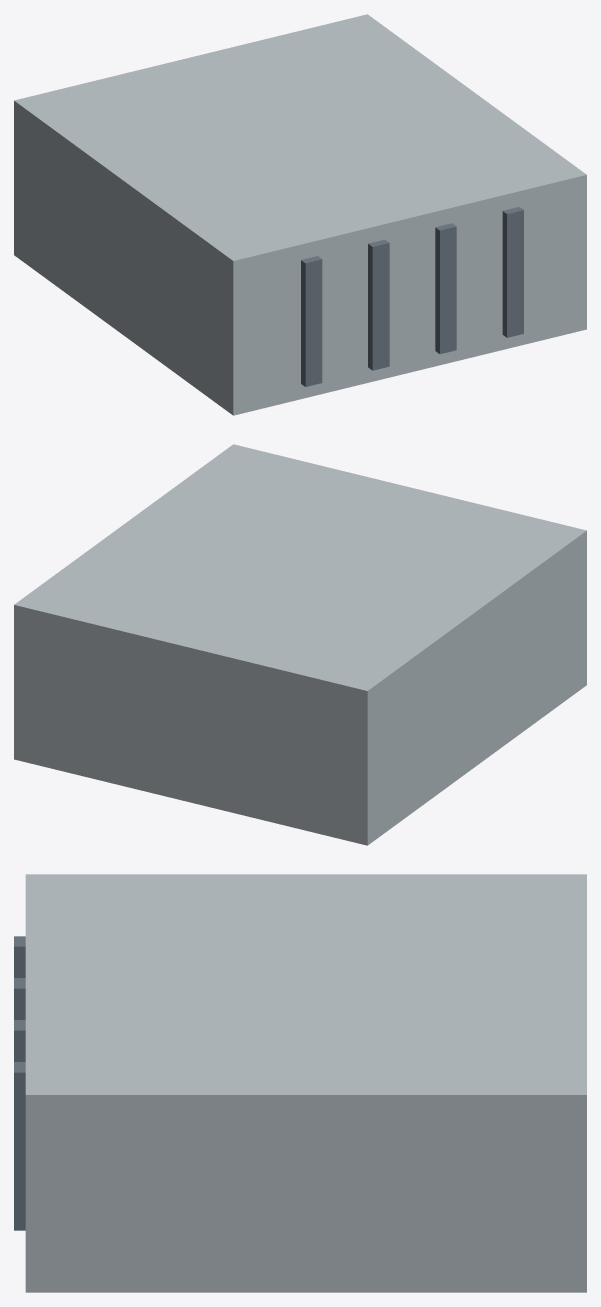
Rendered from curiosity_labs.cutaway.sam.glb.
3 renders of one model, top to bottom at view 1: azimuth 30°, elevation 25°; view 2: azimuth 150°, elevation 25°; view 3: azimuth 270°, elevation 25°, orthographic. The views are drawn at different scales.
Parts seen in each view (by area): view 1: curiosity_labs.cutaway.sam.mesh_Satin_aluminum, curiosity_labs.cutaway.sam.mesh_Machined_steel; view 2: curiosity_labs.cutaway.sam.mesh_Satin_aluminum; view 3: curiosity_labs.cutaway.sam.mesh_Satin_aluminum, curiosity_labs.cutaway.sam.mesh_Machined_steel.
Boxes of the visible parts, x1,y1,x2,y2 form: curiosity_labs.cutaway.sam.mesh_Satin_aluminum: (14, 14, 586, 415); curiosity_labs.cutaway.sam.mesh_Machined_steel: (301, 207, 523, 386); curiosity_labs.cutaway.sam.mesh_Satin_aluminum: (14, 444, 586, 845); curiosity_labs.cutaway.sam.mesh_Satin_aluminum: (25, 874, 586, 1292); curiosity_labs.cutaway.sam.mesh_Machined_steel: (14, 936, 25, 1230).
Size of the model in its own units: 0.67 by 0.28 by 0.735.
